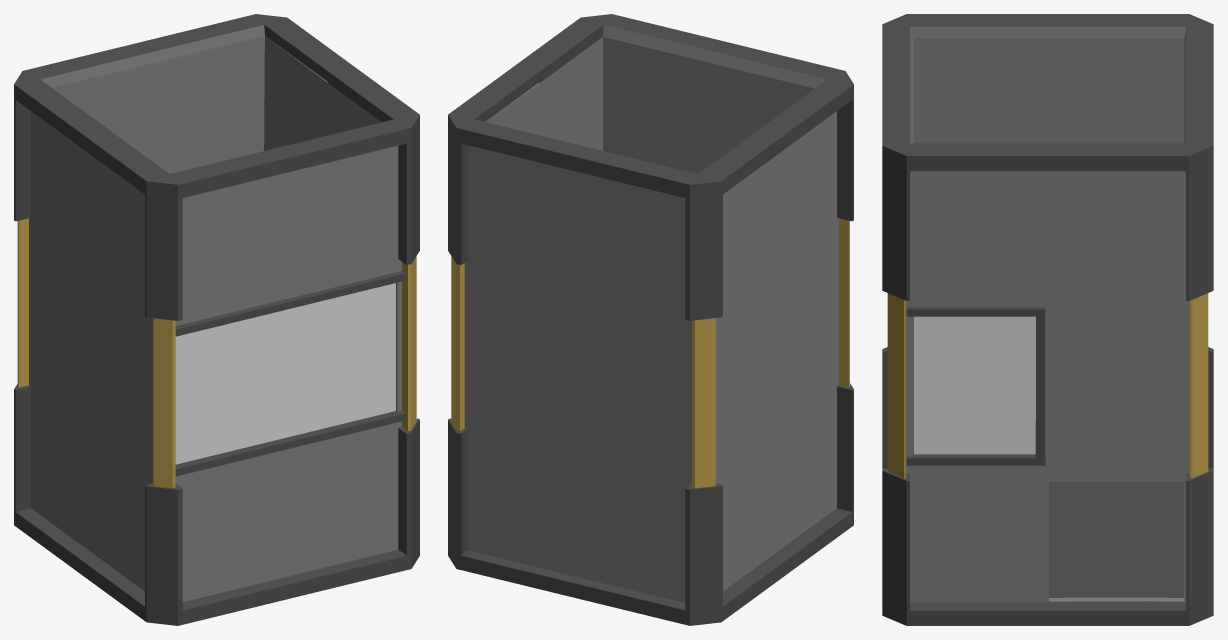
File: Cabine.fbx
3 renders of one model, left to right at view 1: azimuth 30°, elevation 25°; view 2: azimuth 150°, elevation 25°; view 3: azimuth 270°, elevation 25°, orthographic. The views are drawn at different scales.
Visible parts, largest first — view 1: Cabine; view 2: Cabine; view 3: Cabine.
Boxes of the visible parts, x1,y1,x2,y2 form: Cabine: [14, 14, 419, 625]; Cabine: [448, 14, 853, 625]; Cabine: [882, 14, 1213, 625].
Bounding box in the file's own units: 62.19 × 95.94 × 61.32.
